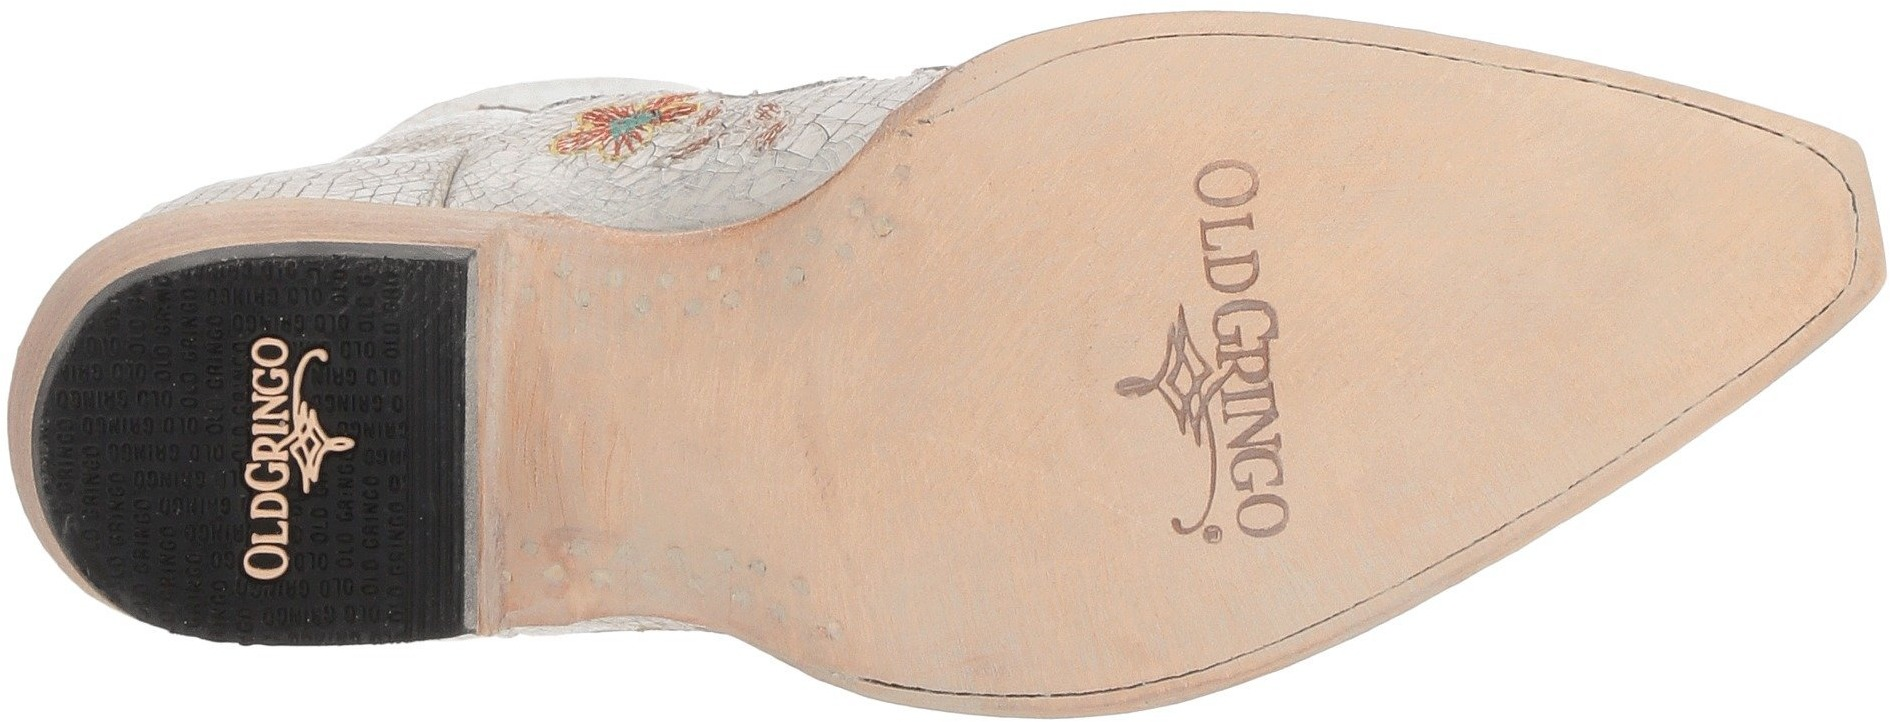other: (1346, 95, 1661, 435), (851, 441, 1086, 668)
text: (121, 299, 435, 607), (1063, 178, 1326, 439), (1155, 446, 1307, 580)
